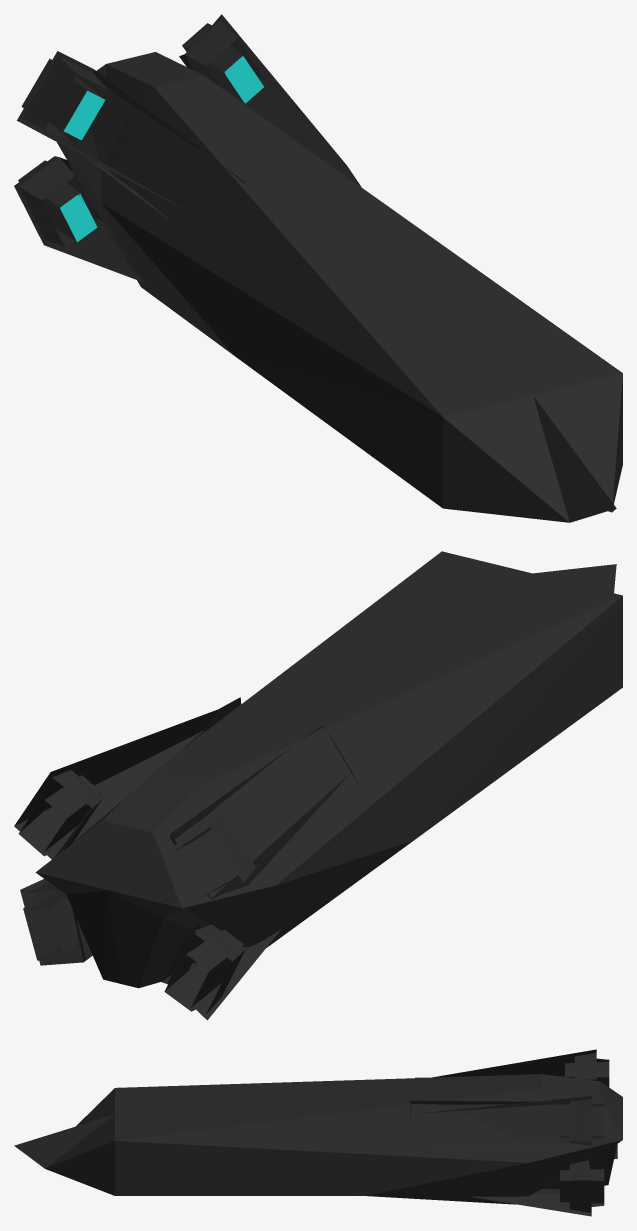
Rendered from ship.obj.
The picture shows the model from 3 angles, top to bottom: view 1: azimuth 30°, elevation 25°; view 2: azimuth 150°, elevation 25°; view 3: azimuth 270°, elevation 25°; orthographic projection. The views are drawn at different scales.
Visible parts, largest first — view 1: Cube; view 2: Cube; view 3: Cube.
Part boxes in pixels (<box>): Cube: <box>14,14,622,522</box>; Cube: <box>14,551,622,1020</box>; Cube: <box>14,1049,622,1216</box>.
Size of the model in its own units: 0.6606 by 0.5448 by 2.44.
Materials: 1 (1 with a texture image).
